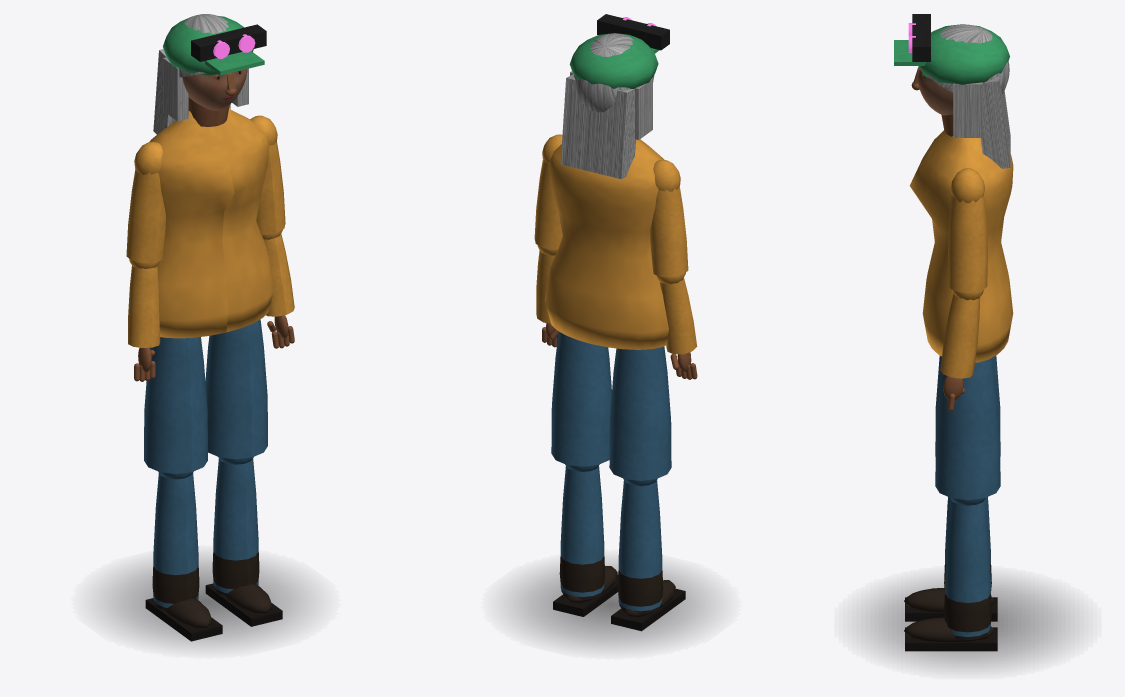
Rendered from npc_tuesday.glb.
3 views of the same model, side by side, from view 1: azimuth 30°, elevation 25°; view 2: azimuth 150°, elevation 25°; view 3: azimuth 270°, elevation 25° (orthographic). The views are drawn at different scales.
Visible parts, largest first — view 1: chest, head, object 11, legL, legR, shinL, shinR, armL, foreL, foreR, armR; view 2: chest, head, object 11, legL, legR, shinL, shinR, armL, foreL, armR, foreR; view 3: chest, head, object 11, shinR, legR, armR, foreR, shinL, legL.
Part boxes in pixels (<box>): chest: <box>149,97,273,338</box>; head: <box>153,14,266,134</box>; object 11: <box>98,556,313,646</box>; legL: <box>144,337,207,473</box>; legR: <box>205,319,267,459</box>; shinL: <box>145,471,222,641</box>; shinR: <box>205,457,282,626</box>; armL: <box>126,141,165,263</box>; foreL: <box>128,258,160,381</box>; foreR: <box>262,229,294,348</box>; armR: <box>250,115,285,234</box>; chest: <box>544,139,668,349</box>; head: <box>560,14,669,179</box>; object 11: <box>507,561,715,648</box>; legL: <box>609,346,671,480</box>; legR: <box>551,331,611,466</box>; shinL: <box>611,478,685,631</box>; shinR: <box>553,464,618,616</box>; armL: <box>650,159,688,277</box>; foreL: <box>656,272,697,379</box>; armR: <box>534,134,562,249</box>; foreR: <box>536,245,558,347</box>; chest: <box>909,114,1013,362</box>; head: <box>894,14,1010,168</box>; object 11: <box>861,578,1074,667</box>; shinR: <box>904,497,997,651</box>; legR: <box>935,357,1000,499</box>; armR: <box>948,168,987,292</box>; foreR: <box>940,290,983,411</box>; shinL: <box>904,497,997,621</box>; legL: <box>935,355,1000,456</box>.
Size of the model in its own units: 0.77 by 1.79 by 0.77.
Materials: 8 (5 with a texture image).
